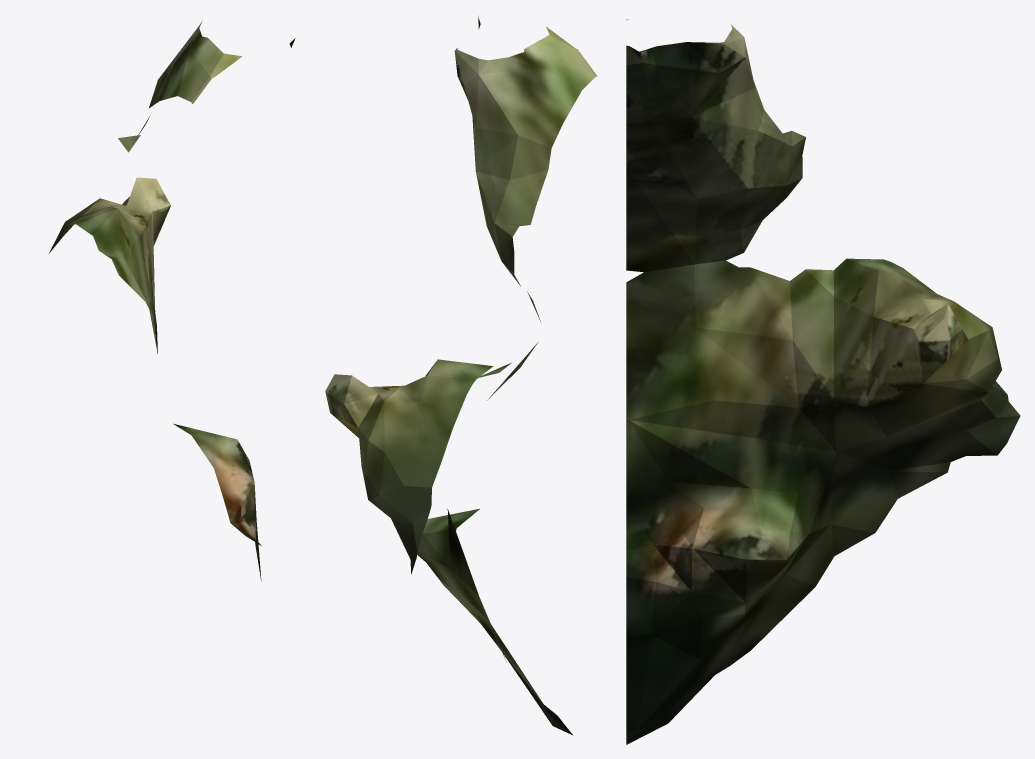
The picture shows the model from 3 angles, left to right: view 1: azimuth 30°, elevation 25°; view 2: azimuth 150°, elevation 25°; view 3: azimuth 270°, elevation 25°; orthographic projection. The views are drawn at different scales.
Size of the model in its own units: 0.1422 by 0.7995 by 0.3827.
Materials: 1 (1 with a texture image).
